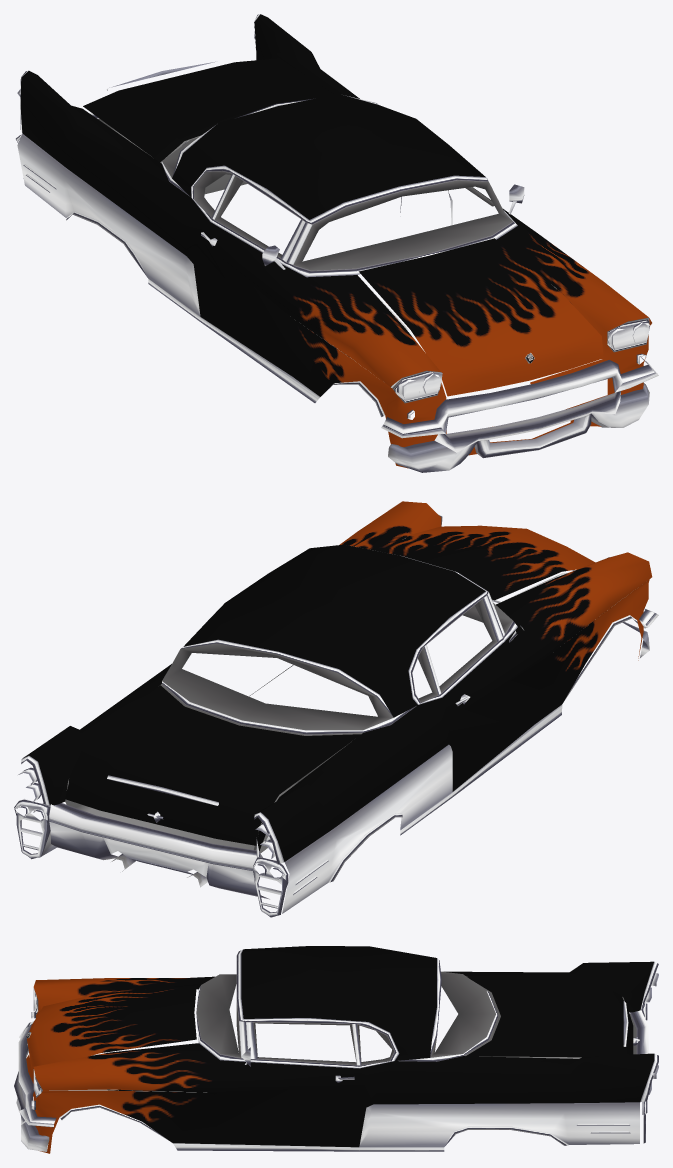
The model's file is car-MSCL_Car13.glb.
3 renders of one model, top to bottom at view 1: azimuth 30°, elevation 25°; view 2: azimuth 150°, elevation 25°; view 3: azimuth 270°, elevation 25°, orthographic. The views are drawn at different scales.
Visible parts, largest first — view 1: MSCL_Car13; view 2: MSCL_Car13; view 3: MSCL_Car13.
Boxes of the visible parts, x1,y1,x2,y2 form: MSCL_Car13: [16, 14, 658, 472]; MSCL_Car13: [14, 501, 658, 917]; MSCL_Car13: [14, 946, 658, 1153].
Size of the model in its own units: 2 by 1.14 by 5.
5 materials, 5 textured.
